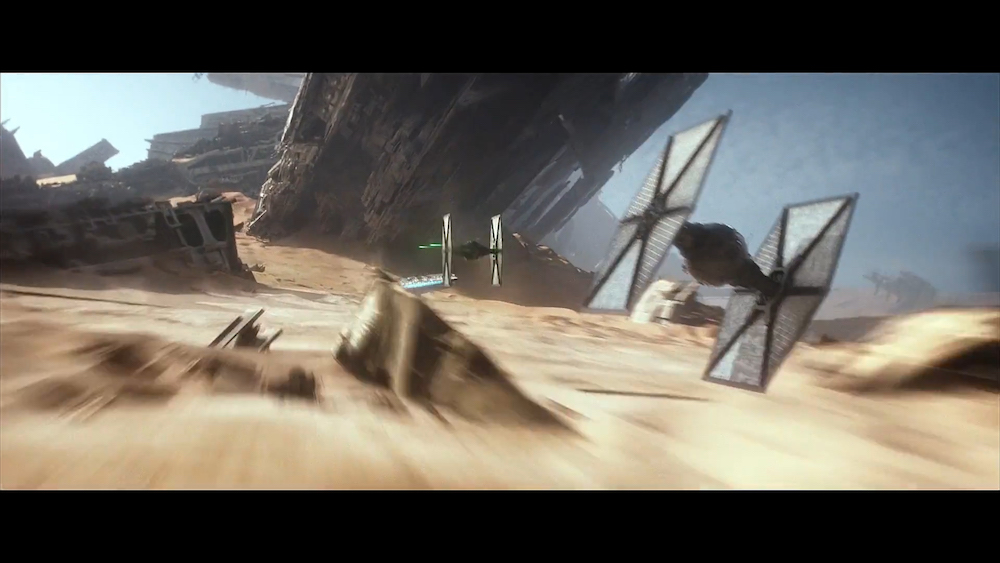Millennium Falcon: (385, 272, 459, 300)
Tie Fighter: (575, 108, 863, 397), (441, 213, 505, 289)
